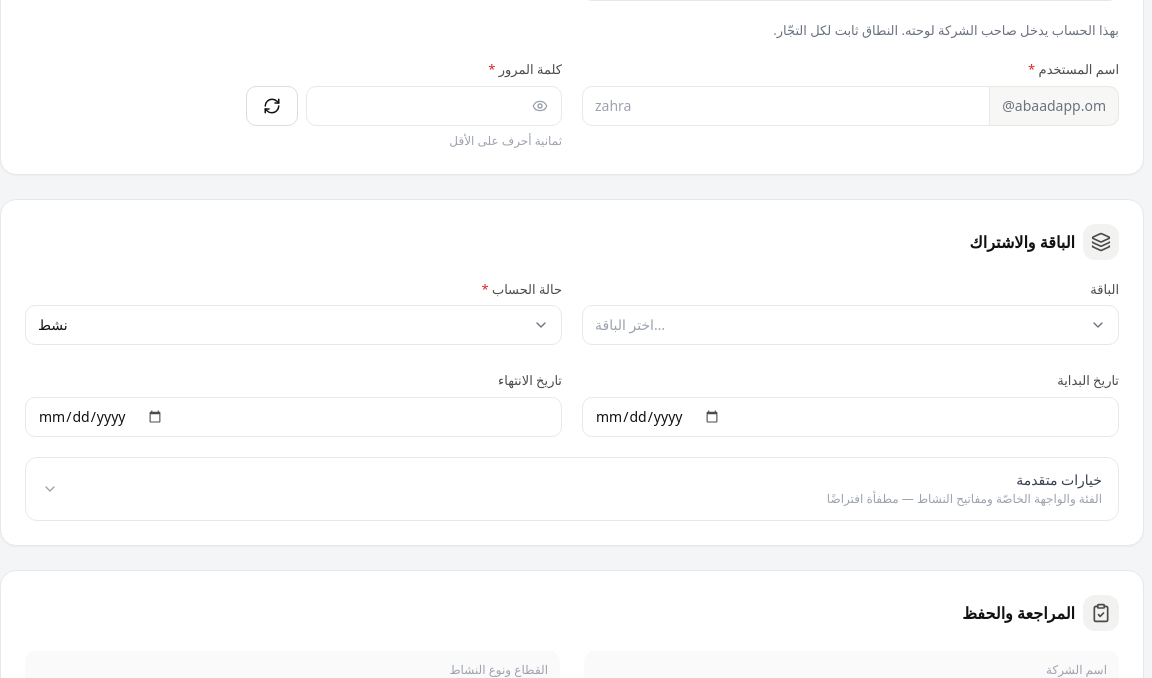
نموذجُ الشركة › والاحترافيّةُ أسطرَها هي — والتبديلُ يستبدل لا يُراكم
This screenshot has width=1152, height=678.
(page scrolled)
Click the dropdown labelled "اختر الباقة…".
click(624, 324)  # box top-left (582, 305), bottom-right (1119, 345)
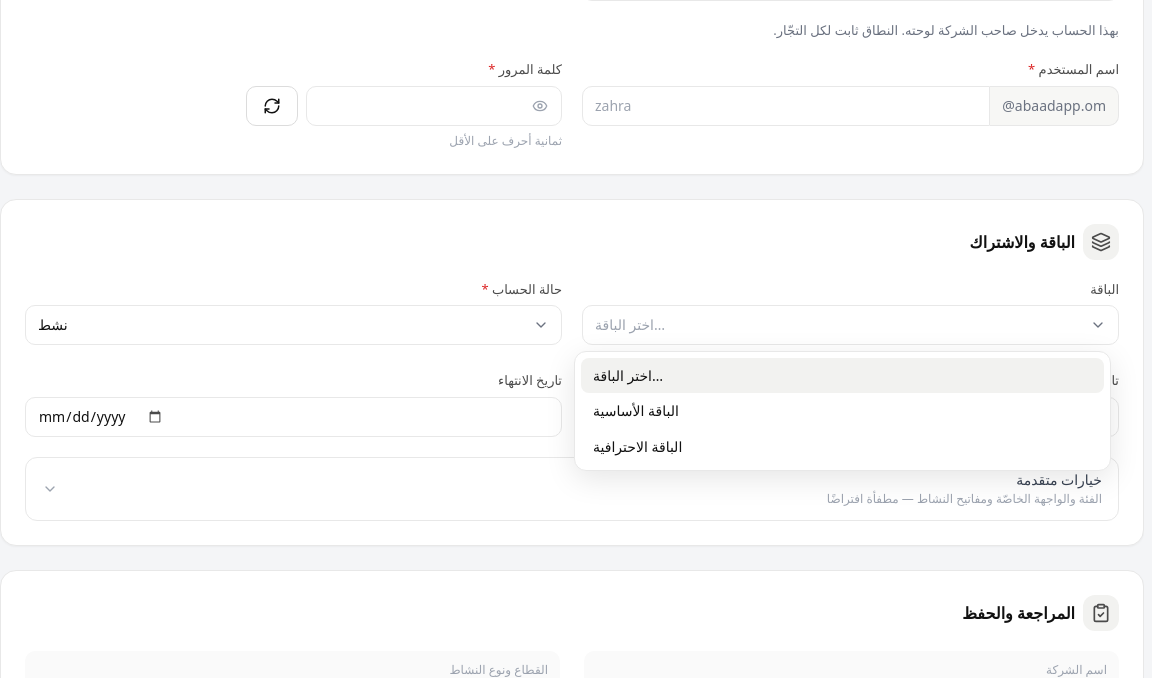
Click the option "الباقة الأساسية".
click(636, 411)  # box top-left (593, 401), bottom-right (679, 420)
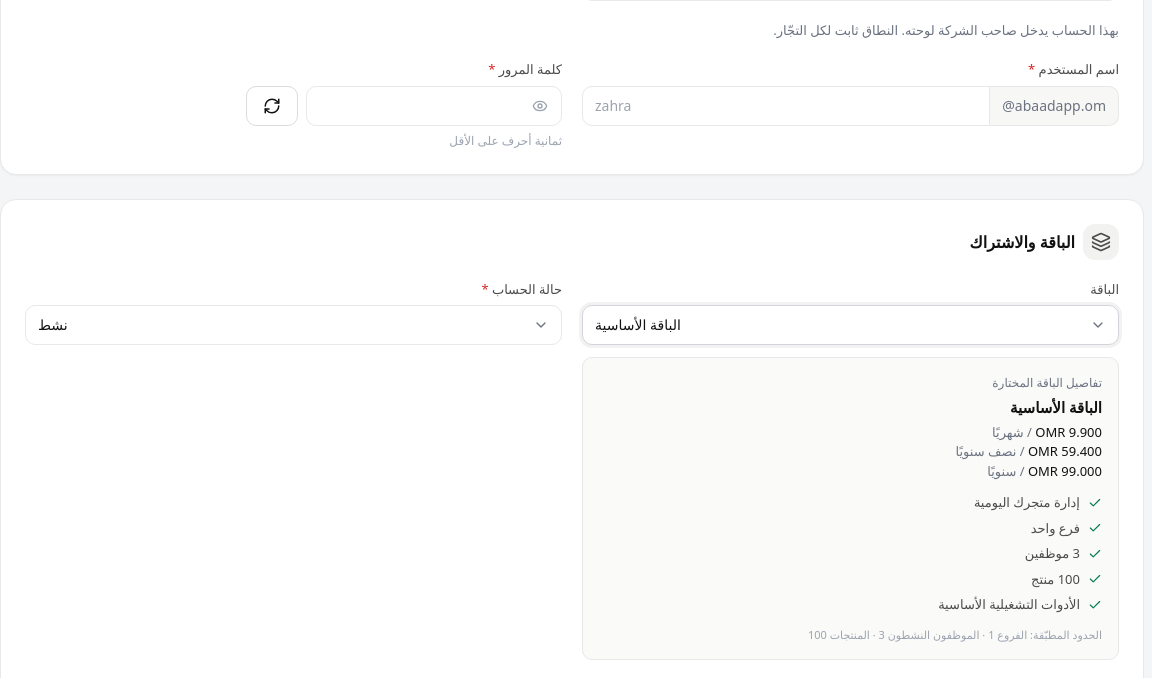
Click the dropdown labelled "الباقة الأساسية".
click(638, 324)  # box top-left (582, 305), bottom-right (1119, 345)
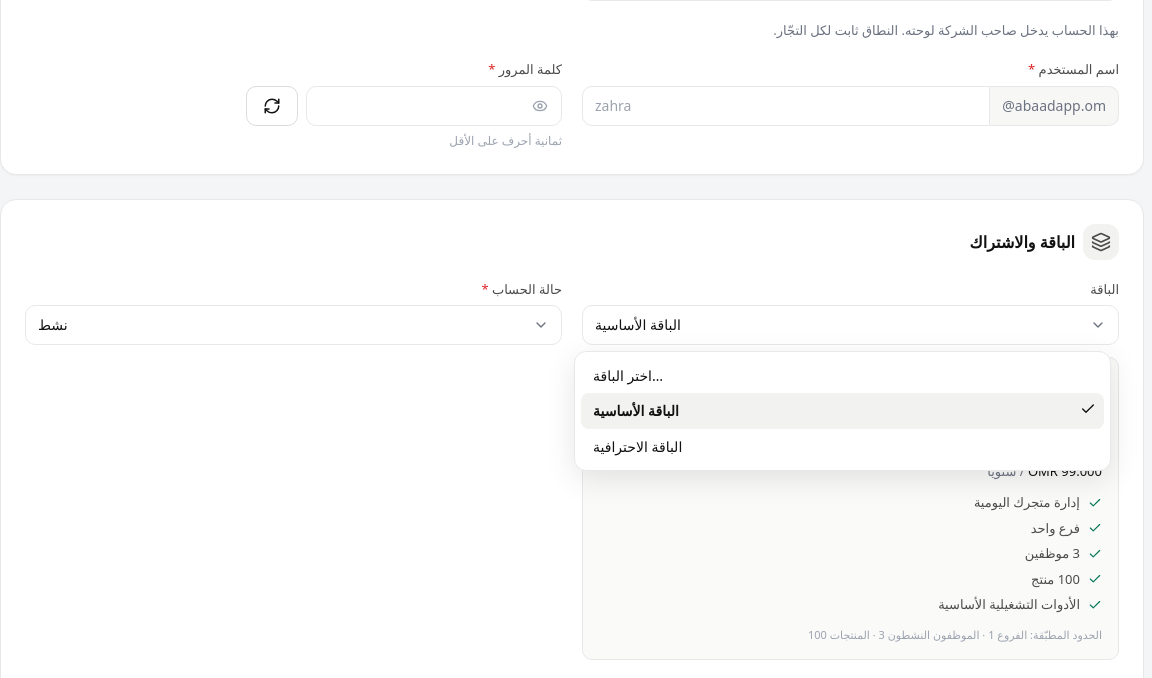
Click the option "الباقة الاحترافية".
click(638, 446)  # box top-left (593, 436), bottom-right (682, 456)
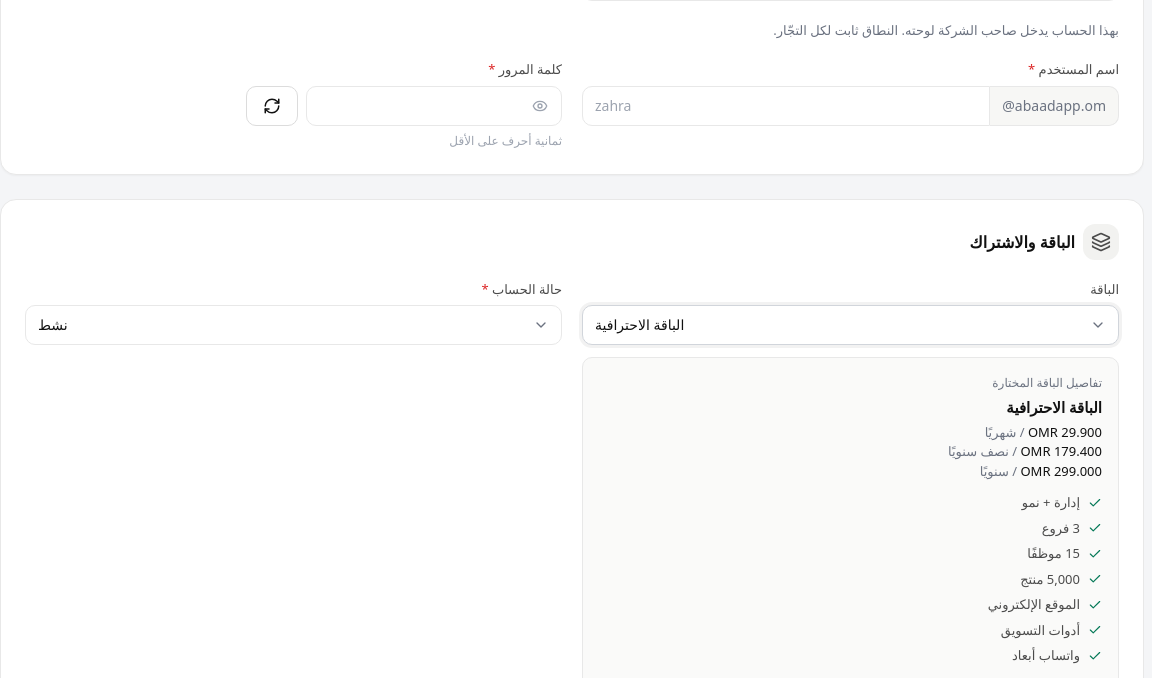
Result: the list item with test id "plan-summary" no longer shows "إدارة متجرك اليومية"
